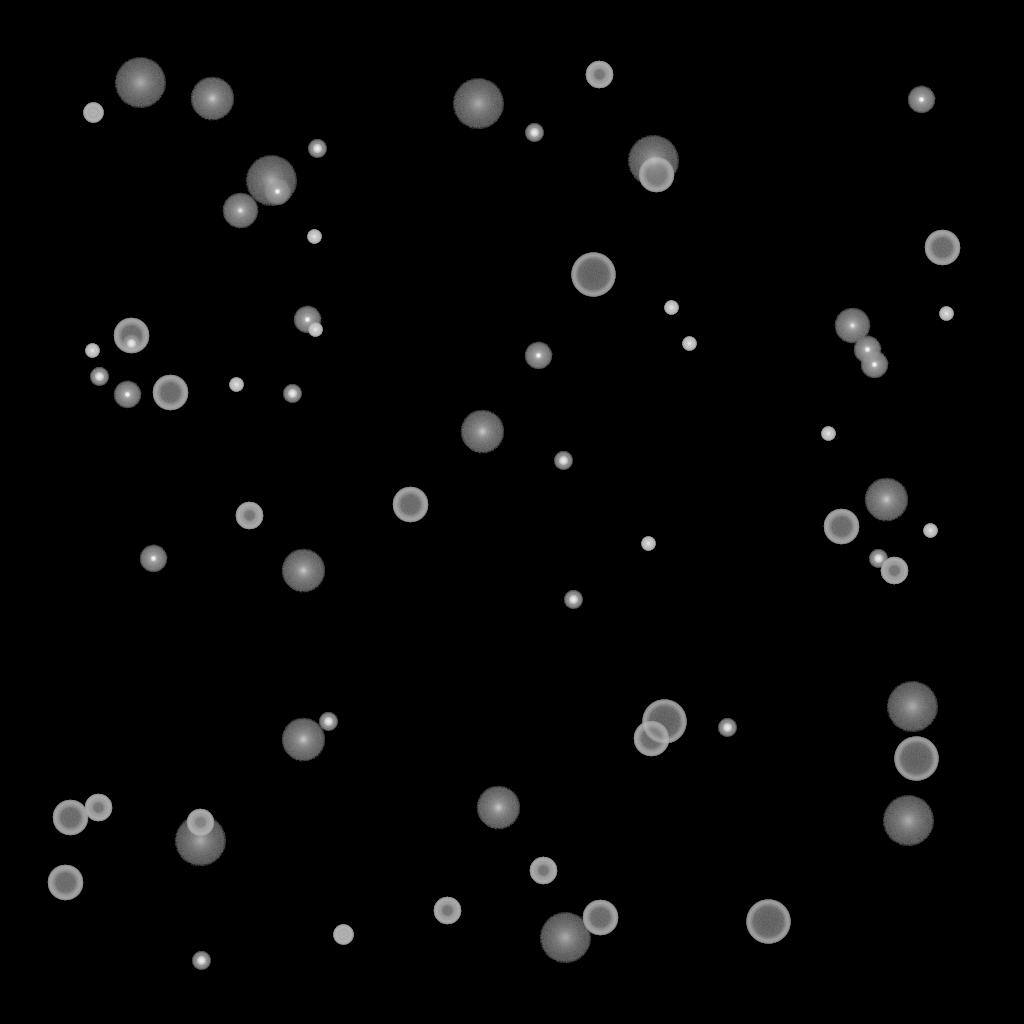depth:-10: (263, 178, 291, 206), (293, 306, 321, 334), (524, 342, 552, 370), (907, 86, 935, 114), (853, 336, 881, 364), (860, 351, 888, 379), (113, 381, 141, 409), (139, 545, 167, 573)
depth:-20: (283, 385, 301, 403), (525, 124, 543, 142), (122, 335, 140, 353), (564, 591, 582, 609), (869, 550, 887, 568), (90, 368, 108, 386), (319, 713, 337, 731), (554, 452, 572, 470), (192, 952, 210, 970), (718, 719, 736, 737), (308, 140, 326, 158)
depth:-30: (664, 301, 678, 315), (307, 230, 321, 244), (821, 427, 835, 441), (85, 344, 99, 358), (641, 537, 655, 551), (308, 323, 322, 337), (229, 378, 243, 392), (923, 524, 937, 538), (939, 307, 953, 321), (682, 337, 696, 351)
depth:-40: (83, 103, 103, 123), (333, 925, 353, 945)
depth:-50: (84, 794, 112, 822), (529, 857, 557, 885), (585, 61, 613, 89), (186, 809, 214, 837), (235, 502, 263, 530), (880, 557, 908, 585), (433, 897, 461, 925)
depth:-60: (823, 509, 859, 545), (52, 800, 88, 836), (113, 318, 149, 354), (924, 230, 960, 266), (638, 157, 674, 193), (47, 865, 83, 901), (633, 721, 669, 757), (582, 900, 618, 936), (152, 375, 188, 411), (392, 487, 428, 523)
depth:-70: (746, 900, 790, 944), (642, 700, 686, 744), (894, 737, 938, 781), (571, 253, 615, 297)
depth:0: (222, 193, 258, 229), (834, 308, 870, 344)
depth:10: (476, 786, 520, 830), (281, 718, 325, 762), (460, 410, 504, 454), (864, 478, 908, 522), (281, 549, 325, 593), (190, 77, 234, 121)
depth:20: (539, 913, 591, 963), (114, 58, 166, 108), (882, 796, 934, 846), (452, 79, 504, 129), (245, 156, 297, 206), (174, 816, 226, 866), (627, 136, 679, 186), (886, 682, 938, 732)
